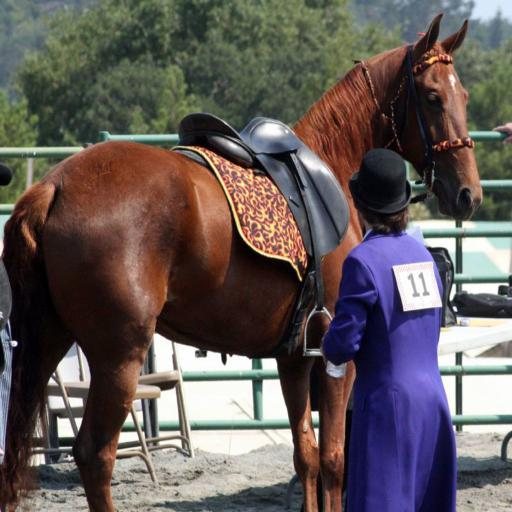Horse: (0, 13, 482, 511)
